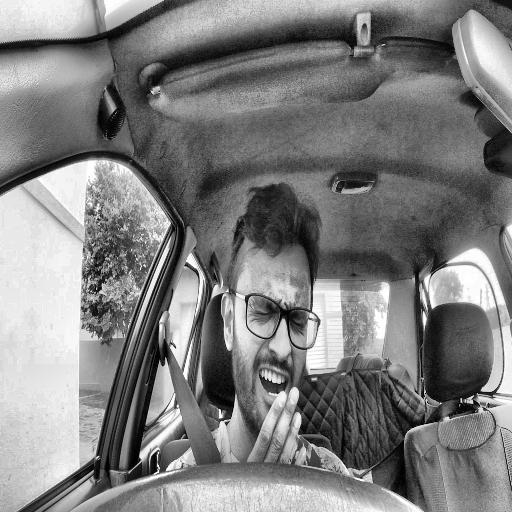drowsy: (222, 180, 321, 438)
